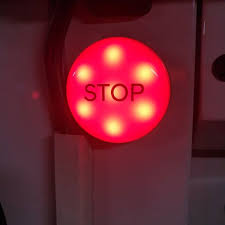bell: (65, 36, 173, 147)
